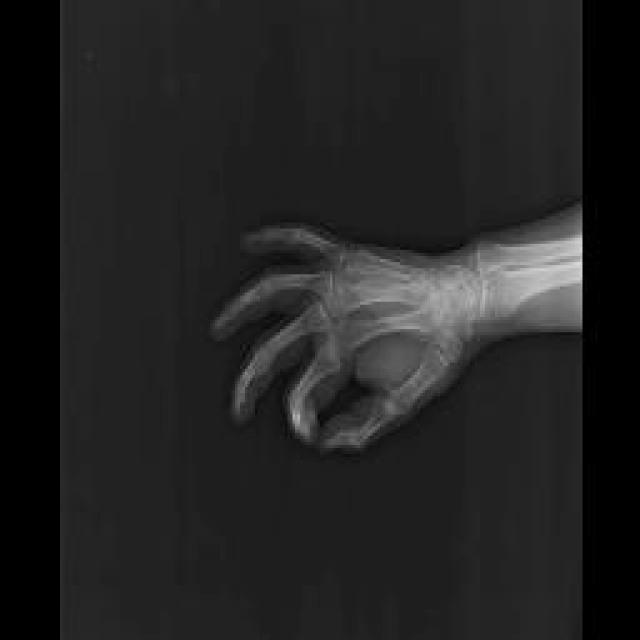normal: (210, 227, 581, 452)
